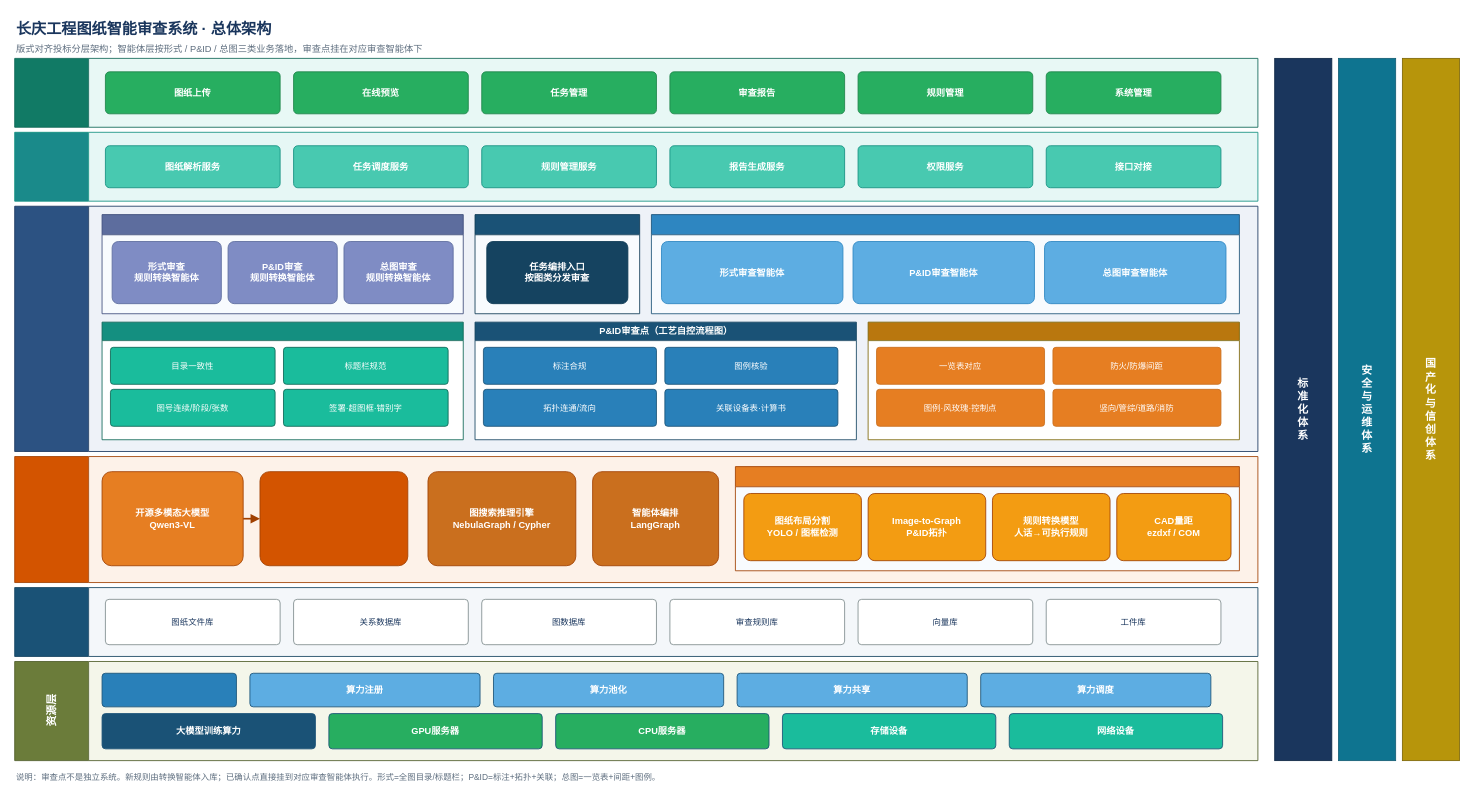
This 1474x805 diagram has some shape labels left out. The box of each missing label's shape, as (x1, y1, x2, y2) in pixels:
AI引擎层: (14, 456, 1258, 583)
图纸审查智能体集群（按业务执行）: (651, 214, 1239, 314)
审查总控智能体: (474, 214, 640, 314)
审查规则转换智能体集群（新规则入库）: (101, 214, 463, 314)
工程图纸场景大模型 企业私有数据微调: (259, 471, 408, 566)
应用交互层: (14, 58, 1258, 127)
异构算力调度: (101, 672, 236, 707)
形式审查点（全专业图纸）: (101, 321, 463, 440)
总图审查点（总平面等）: (867, 321, 1239, 440)
数据层: (14, 587, 1258, 656)
智能体层: (14, 205, 1258, 452)
服务层: (14, 131, 1258, 201)
算法模型库: (735, 466, 1239, 571)
